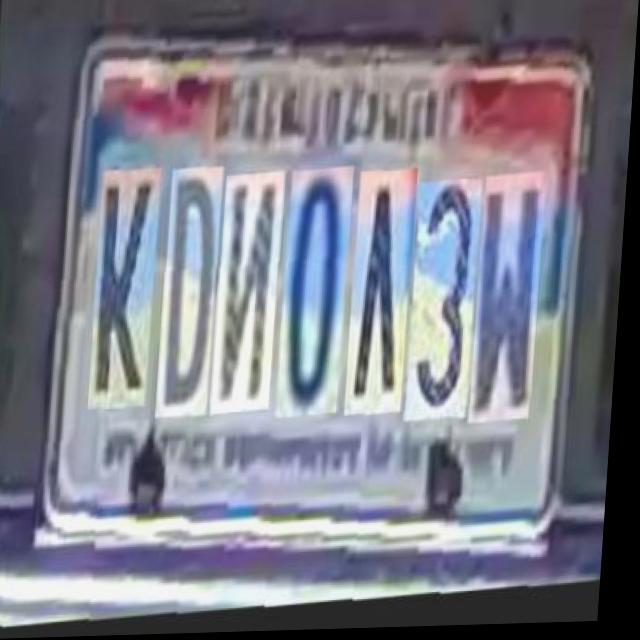3: (409, 191, 483, 434)
d: (159, 178, 225, 430)
k: (91, 179, 161, 422)
m: (474, 184, 548, 436)
n: (214, 183, 286, 426)
o: (280, 179, 354, 431)
v: (348, 181, 418, 429)
